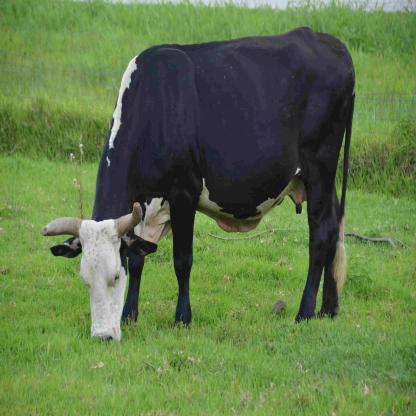cow: (52, 27, 356, 353)
